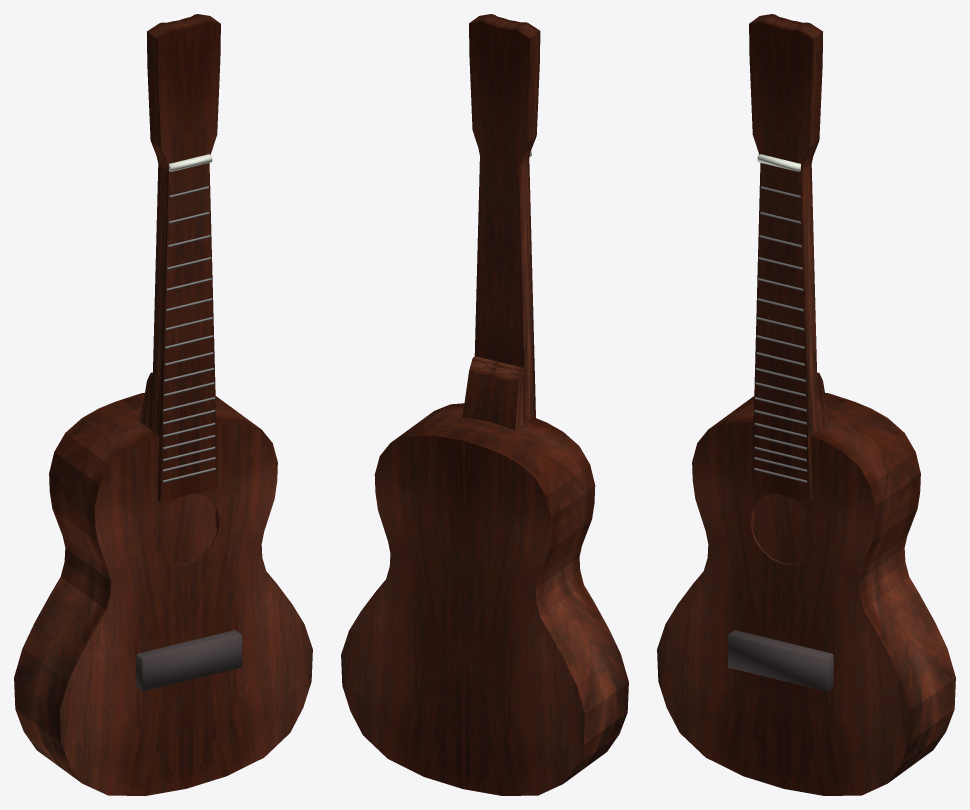
The model's file is guitar.fbx.
3 views of the same model, side by side, from view 1: azimuth 30°, elevation 25°; view 2: azimuth 150°, elevation 25°; view 3: azimuth 330°, elevation 25° (orthographic). The views are drawn at different scales.
Visible parts, largest first — view 1: Kasa, Klavye, botp, fret; view 2: Kasa, Klavye; view 3: Kasa, Klavye, botp, fret.
Part boxes in pixels (bbox=[...]): Kasa: bbox=[14, 393, 312, 795]; Klavye: bbox=[140, 14, 220, 501]; botp: bbox=[136, 630, 241, 691]; fret: bbox=[162, 186, 215, 482]; Kasa: bbox=[341, 403, 628, 795]; Klavye: bbox=[462, 14, 540, 430]; Kasa: bbox=[657, 393, 955, 795]; Klavye: bbox=[749, 14, 829, 501]; botp: bbox=[728, 630, 833, 691]; fret: bbox=[754, 186, 807, 482].
Bounding box in the file's own units: 275 × 794 × 98.77.
